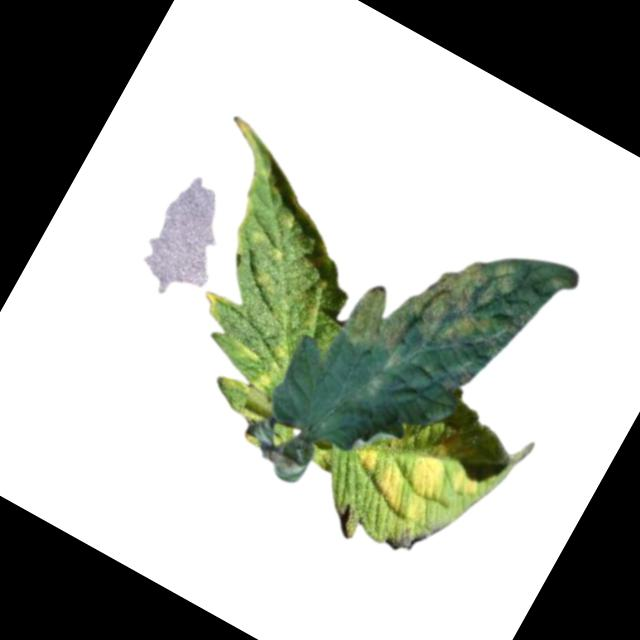Leaf_Mold: (99, 114, 391, 446), (336, 186, 582, 429), (340, 388, 512, 548)
